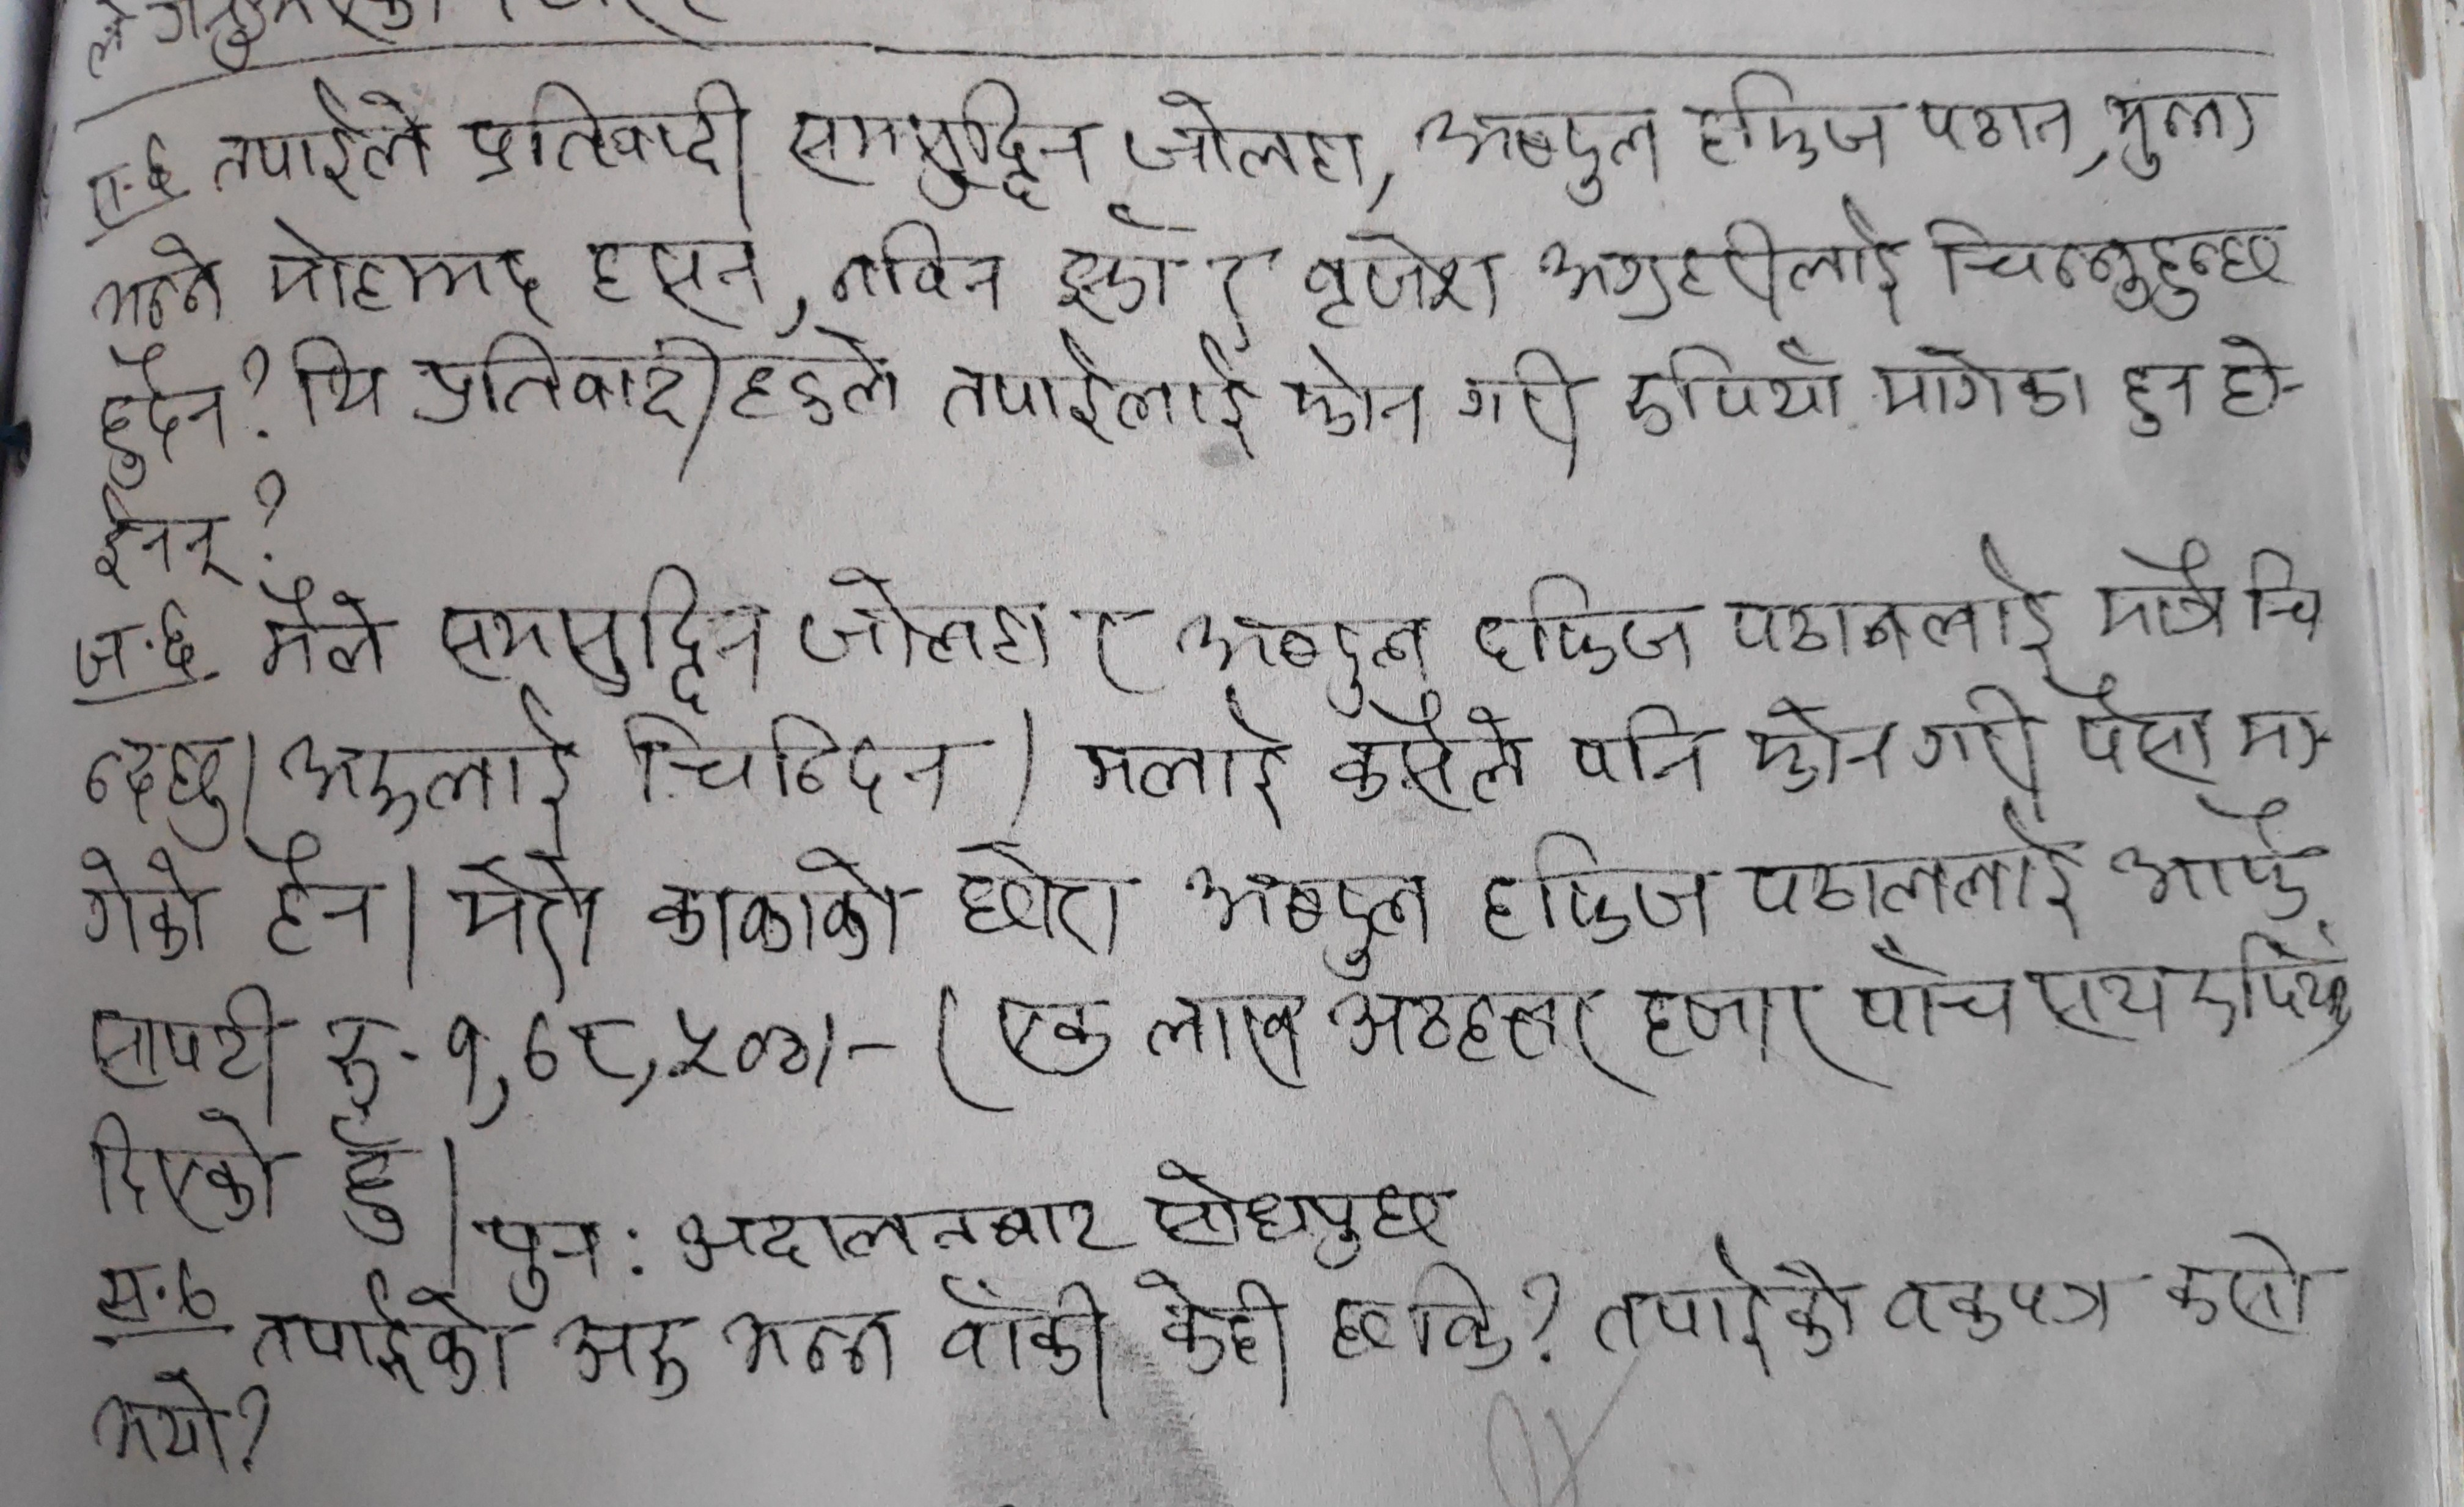text: (412, 313, 906, 479), (322, 998, 815, 1111), (1521, 190, 1924, 322), (429, 560, 769, 713), (1737, 796, 2096, 940), (928, 313, 1258, 463), (1723, 526, 2061, 671), (778, 74, 1105, 215), (280, 688, 591, 836), (454, 65, 760, 215), (662, 1185, 1130, 1276), (616, 701, 959, 824), (1595, 1236, 1866, 1389), (1318, 970, 1619, 1107), (1927, 206, 2297, 317), (1139, 1151, 1470, 1268), (243, 1282, 533, 1407), (1181, 849, 1438, 982), (644, 845, 913, 970), (1063, 687, 1295, 829), (787, 563, 1056, 683), (246, 215, 542, 322), (201, 74, 438, 206), (1459, 826, 1711, 949), (1413, 93, 1670, 211), (1114, 85, 1375, 201), (924, 1276, 1123, 1426), (1181, 597, 1434, 713), (1619, 327, 1853, 451), (76, 1102, 280, 1239), (2114, 803, 2328, 933), (1475, 567, 1695, 687), (943, 833, 1142, 965), (1633, 974, 1852, 1093), (1853, 331, 2093, 438), (1322, 699, 1529, 820), (76, 974, 283, 1093), (1308, 224, 1512, 343), (1325, 1255, 1521, 1380), (2177, 931, 2362, 1062), (1683, 62, 1890, 176), (704, 1289, 898, 1405), (577, 218, 781, 326), (88, 340, 234, 488), (1142, 1273, 1292, 1417), (77, 722, 238, 854), (1139, 979, 1316, 1095), (442, 849, 611, 967), (1844, 931, 2026, 1040), (824, 222, 1014, 326), (1876, 1269, 2119, 1349), (2061, 671, 2214, 796), (1566, 699, 1723, 817), (252, 833, 391, 965), (2172, 1232, 2330, 1347), (2110, 85, 2284, 188), (69, 838, 209, 967), (77, 481, 238, 592), (1280, 352, 1438, 463), (77, 1371, 231, 1484), (553, 1301, 699, 1419), (2086, 537, 2233, 653), (1454, 347, 1595, 467), (1910, 676, 2040, 805), (1910, 74, 2084, 169), (1744, 688, 1897, 796), (246, 579, 396, 683), (2019, 958, 2175, 1056), (88, 236, 229, 334), (986, 989, 1118, 1090), (326, 1116, 424, 1245), (484, 1211, 607, 1310), (1044, 243, 1181, 326), (296, 331, 392, 435), (2242, 539, 2325, 655), (2108, 356, 2209, 442), (2212, 327, 2288, 435), (1081, 597, 1155, 704), (2233, 687, 2316, 780), (1197, 243, 1283, 326)
